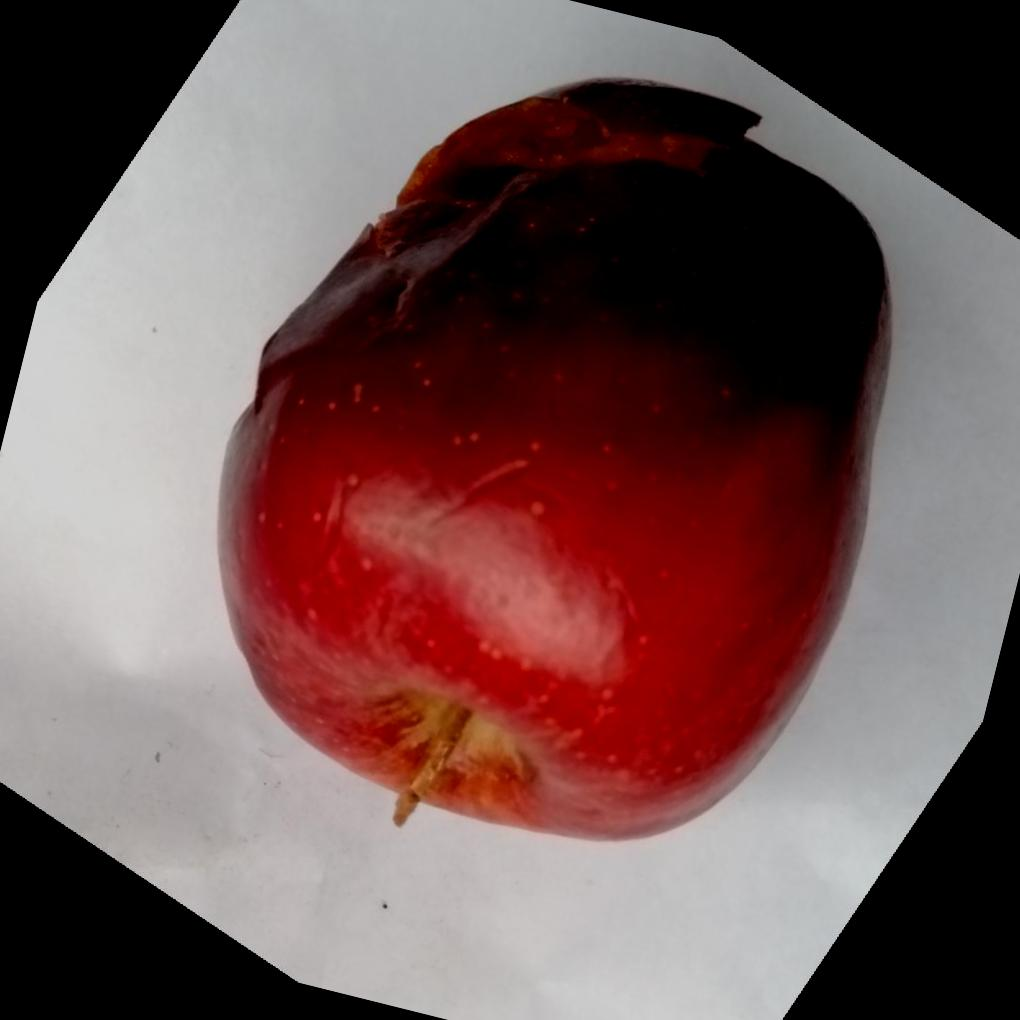FreshOrange: (217, 74, 895, 840)
